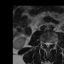CCS_normal: (46, 39, 48, 49)
LFS_normal: (51, 40, 53, 46)
LLS_normal: (48, 40, 51, 47)
RFS_stenosis: (42, 39, 45, 46)
RLS_normal: (45, 40, 46, 47)
